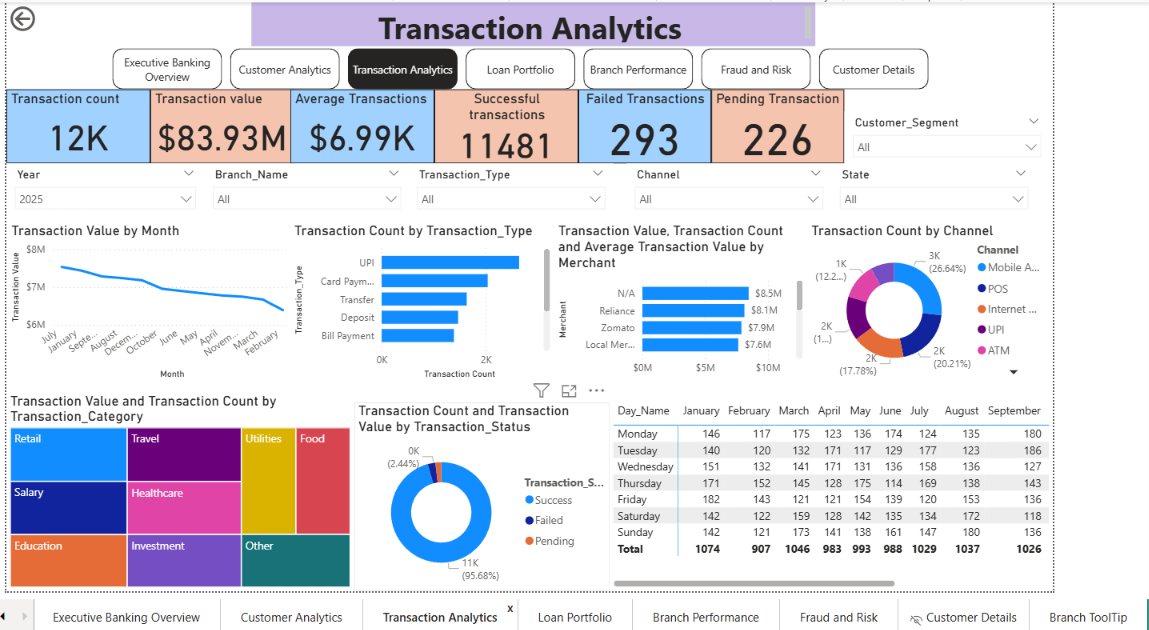

The page's visual inventory and layout, read from the dashboard file:
{"tool":"powerbi","page":{"name":"Transaction Analytics","canvas":[1280,720],"ordinal":2},"visuals":[{"type":"card","title":"Transaction count","fields":{"Values":["Transactions.Transaction Count"]},"box":[0,106.4,176.1,90.5],"z":0},{"type":"card","title":"Transaction value","fields":{"Values":["Transactions.Transaction Value"]},"box":[176.1,106.4,176.1,90.5],"z":1000},{"type":"textbox","box":[299.6,0,689.7,53.8],"z":2000},{"type":"card","title":"Average Transactions","fields":{"Values":["Transactions.Average Transaction Value"]},"box":[347.3,106.4,176.1,90.5],"z":3000},{"type":"card","title":"Successful transactions","fields":{"Values":["Transactions.Successful Transactions"]},"box":[523.4,106.4,176.1,90.5],"z":4000},{"type":"card","title":"Failed Transactions","fields":{"Values":["Transactions.Failed Transactions"]},"box":[699.5,106.4,162.6,90.5],"z":5000},{"type":"card","title":"Pending Transaction","fields":{"Values":["Transactions.Pending Transactions"]},"box":[862.1,106.4,162.6,90.5],"z":6000},{"type":"actionButton","box":[0,0,100,40],"z":7000},{"type":"lineChart","fields":{"Y":["Transactions.Transaction Value"],"Category":["Date.Month"]},"box":[1.4,268.5,352,196.2],"z":8000},{"type":"clusteredBarChart","fields":{"Category":["Transactions.Transaction_Type"],"Y":["Transactions.Transaction Count"]},"box":[347.8,268.5,322.8,196.2],"z":9000},{"type":"donutChart","fields":{"Category":["Transactions.Channel"],"Y":["Transactions.Transaction Count"]},"box":[979.5,268.5,300.5,196.2],"z":10000},{"type":"treemap","fields":{"Group":["Transactions.Transaction_Category"],"Values":["Transactions.Transaction Value"]},"box":[0,476.9,425.5,243.3],"z":11000},{"type":"donutChart","fields":{"Y":["Transactions.Transaction Count"],"Category":["Transactions.Transaction_Status"]},"box":[425.5,489.1,311.8,231.1],"z":12000},{"type":"clusteredBarChart","fields":{"Category":["Transactions.Merchant"],"Y":["Transactions.Transaction Value"]},"box":[670.6,268.5,308.9,196.2],"z":13000},{"type":"pivotTable","fields":{"Rows":["Date.Day_Name"],"Columns":["Date.Month"],"Values":["Transactions.Transaction Count"]},"box":[737.4,483,542.9,237.2],"z":14000},{"type":"slicer","fields":{"Values":["Date.Year"]},"box":[0,196.9,242.1,56.3],"z":15000},{"type":"slicer","fields":{"Values":["Branches.Branch_Name"]},"box":[242.1,196.9,250.7,63.6],"z":16000},{"type":"slicer","fields":{"Values":["Transactions.Transaction_Type"]},"box":[491.6,196.9,250.7,63.6],"z":17000},{"type":"slicer","fields":{"Values":["Transactions.Channel"]},"box":[758.2,196.9,250.7,63.6],"z":18000},{"type":"slicer","fields":{"Values":["Customers.State"]},"box":[1008.8,196.9,250.7,63.6],"z":19000},{"type":"slicer","fields":{"Values":["Customers.Customer_Segment"]},"box":[1024.7,133.3,250.7,63.6],"z":20000},{"type":"pageNavigator","box":[129.6,56.3,1000.3,50.1],"z":20001}]}

Visuals, with their boxes on the page's 1280x720 design canvas (x1, y1, x2, y2). These are canvas units, not pixel positions in the 1149x630 screenshot, which may show the page scaled, cropped or inside an application window:
"Transaction count" card: (x1=0, y1=106, x2=176, y2=197)
"Transaction value" card: (x1=176, y1=106, x2=352, y2=197)
textbox: (x1=300, y1=0, x2=989, y2=54)
"Average Transactions" card: (x1=347, y1=106, x2=523, y2=197)
"Successful transactions" card: (x1=523, y1=106, x2=700, y2=197)
"Failed Transactions" card: (x1=700, y1=106, x2=862, y2=197)
"Pending Transaction" card: (x1=862, y1=106, x2=1025, y2=197)
actionButton: (x1=0, y1=0, x2=100, y2=40)
lineChart - Transactions.Transaction Value x Date.Month: (x1=1, y1=268, x2=353, y2=465)
clusteredBarChart - Transactions.Transaction_Type x Transactions.Transaction Count: (x1=348, y1=268, x2=671, y2=465)
donutChart - Transactions.Channel x Transactions.Transaction Count: (x1=980, y1=268, x2=1280, y2=465)
treemap - Transactions.Transaction_Category x Transactions.Transaction Value: (x1=0, y1=477, x2=426, y2=720)
donutChart - Transactions.Transaction Count x Transactions.Transaction_Status: (x1=426, y1=489, x2=737, y2=720)
clusteredBarChart - Transactions.Merchant x Transactions.Transaction Value: (x1=671, y1=268, x2=980, y2=465)
pivotTable - Date.Day_Name x Date.Month: (x1=737, y1=483, x2=1280, y2=720)
slicer - Date.Year: (x1=0, y1=197, x2=242, y2=253)
slicer - Branches.Branch_Name: (x1=242, y1=197, x2=493, y2=260)
slicer - Transactions.Transaction_Type: (x1=492, y1=197, x2=742, y2=260)
slicer - Transactions.Channel: (x1=758, y1=197, x2=1009, y2=260)
slicer - Customers.State: (x1=1009, y1=197, x2=1260, y2=260)
slicer - Customers.Customer_Segment: (x1=1025, y1=133, x2=1275, y2=197)
pageNavigator: (x1=130, y1=56, x2=1130, y2=106)
